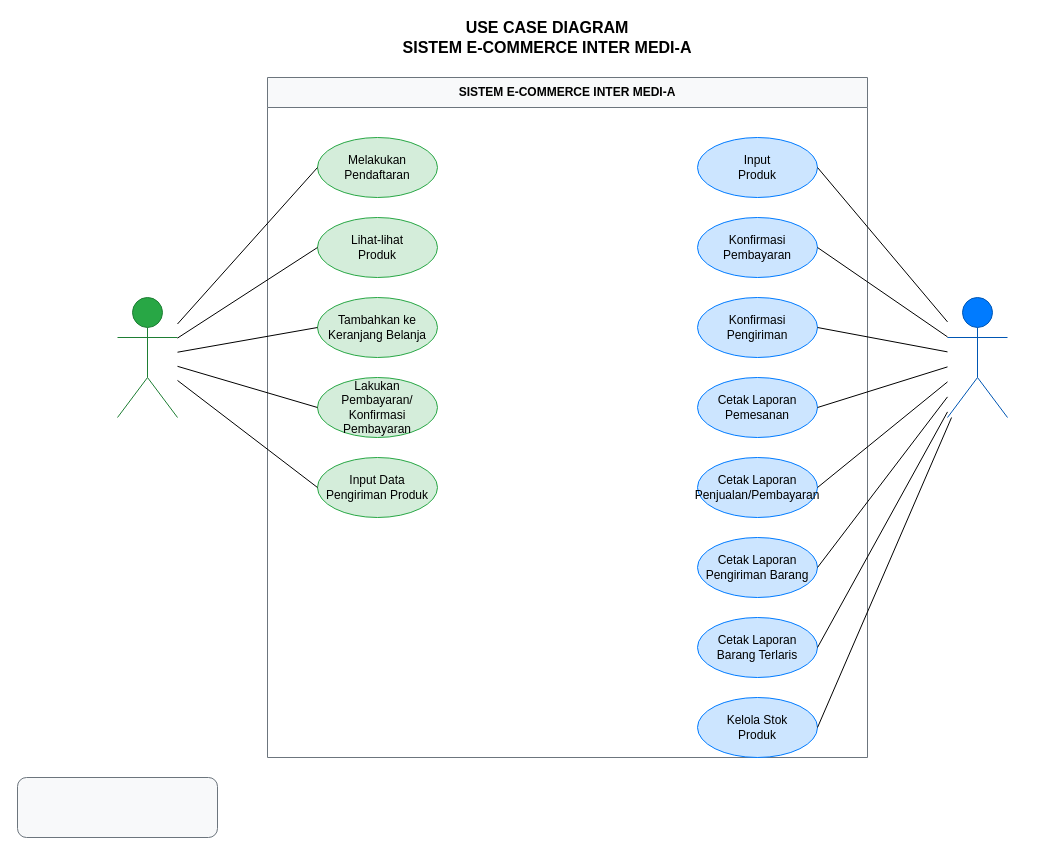
The diagram is 1040 pixels wide and 855 high, and some of its shapes have lost their labels. The shapes that lost their labels are listed below. From the top down, each one's centre as x and y in pixels, then its label:
pixel 147 357: CUSTOMER (Pelanggan)
pixel 977 357: ADMIN/SELLER (Pengelola)
pixel 117 807: KETERANGAN: 🟢 Customer Use Cases (5) 🔵 Admin Use Cases (8) Total: 13 Use Cases
